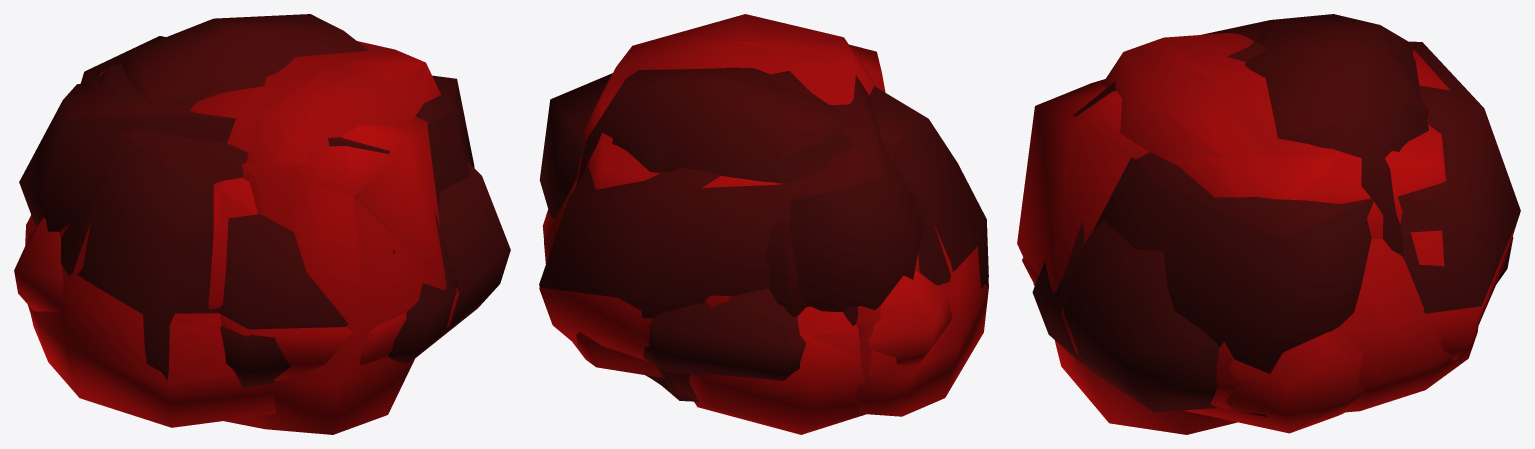
The model's file is dirt rocks.fbx.
3 views of the same model, side by side, from view 1: azimuth 30°, elevation 25°; view 2: azimuth 150°, elevation 25°; view 3: azimuth 270°, elevation 25° (orthographic). The views are drawn at different scales.
Parts seen in each view (by area): view 1: SmallSandChunk.007, SmallDirtChunk.002, SmallSandChunk.002, SmallSandChunk.009, SmallDirtChunk.007, SmallDirtChunk.010, SmallDirtChunk.006, SmallDirtChunk.005, SmallSandChunk.005, SmallSandChunk.010, SmallSandChunk.004, SmallDirtChunk.009; view 2: SmallDirtChunk.005, SmallDirtChunk.007, SmallDirtChunk.006, SmallSandChunk.009, SmallSandChunk.007, SmallDirtChunk.002, SmallDirtChunk.010, SmallSandChunk.002, SmallDirtChunk.009, SmallSandChunk.005, SmallSandChunk.010, SmallSandChunk.003 (+1 smaller); view 3: SmallDirtChunk.007, SmallSandChunk.009, SmallDirtChunk.010, SmallSandChunk.007, SmallDirtChunk.006, SmallDirtChunk.005, SmallSandChunk.003, SmallSandChunk.010, SmallSandChunk.005, SmallDirtChunk.009.
Boxes of the visible parts, x1,y1,x2,y2 form: SmallSandChunk.007: (28, 116, 446, 434); SmallDirtChunk.002: (60, 65, 266, 380); SmallSandChunk.002: (25, 215, 276, 427); SmallSandChunk.009: (190, 41, 440, 215); SmallDirtChunk.007: (19, 75, 474, 253); SmallDirtChunk.010: (220, 161, 510, 387); SmallDirtChunk.006: (121, 14, 368, 110); SmallDirtChunk.005: (80, 36, 458, 329); SmallSandChunk.005: (99, 63, 458, 381); SmallSandChunk.010: (14, 217, 367, 361); SmallSandChunk.004: (208, 177, 257, 309); SmallDirtChunk.009: (99, 64, 144, 104); SmallDirtChunk.005: (539, 166, 811, 318); SmallDirtChunk.007: (539, 73, 923, 311); SmallDirtChunk.006: (576, 67, 859, 185); SmallSandChunk.009: (577, 14, 877, 307); SmallSandChunk.007: (689, 44, 896, 434); SmallDirtChunk.002: (768, 71, 988, 325); SmallDirtChunk.010: (642, 288, 806, 380); SmallSandChunk.002: (856, 225, 988, 416); SmallDirtChunk.009: (612, 124, 853, 316); SmallSandChunk.005: (539, 176, 782, 361); SmallSandChunk.010: (542, 209, 951, 366); SmallSandChunk.003: (544, 179, 663, 377); SmallDirtChunk.007: (1039, 14, 1407, 416); SmallSandChunk.009: (1102, 33, 1445, 238); SmallDirtChunk.010: (1032, 220, 1513, 412); SmallSandChunk.007: (1017, 79, 1237, 434); SmallDirtChunk.006: (1245, 23, 1428, 256); SmallDirtChunk.005: (1057, 41, 1520, 313); SmallSandChunk.003: (1210, 238, 1478, 412); SmallSandChunk.010: (1033, 283, 1365, 433); SmallSandChunk.005: (1022, 50, 1515, 361); SmallDirtChunk.009: (1217, 23, 1428, 418).
Size of the model in its own units: 388 by 298 by 365.
